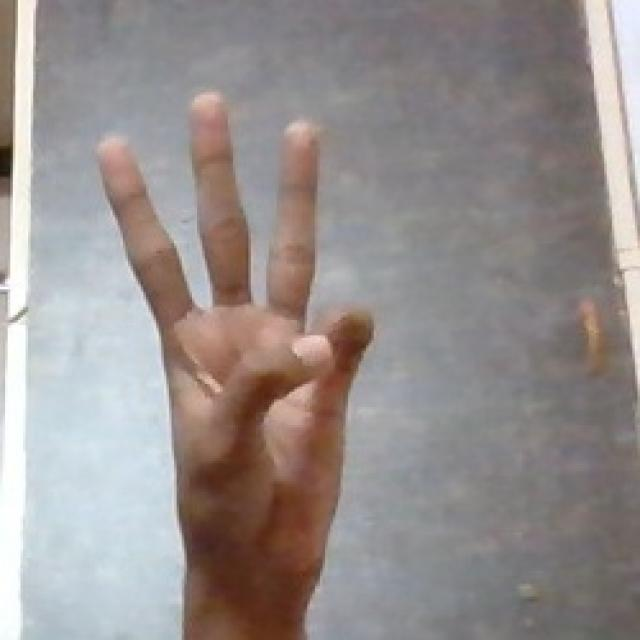Numeric-6: (86, 81, 384, 610)
